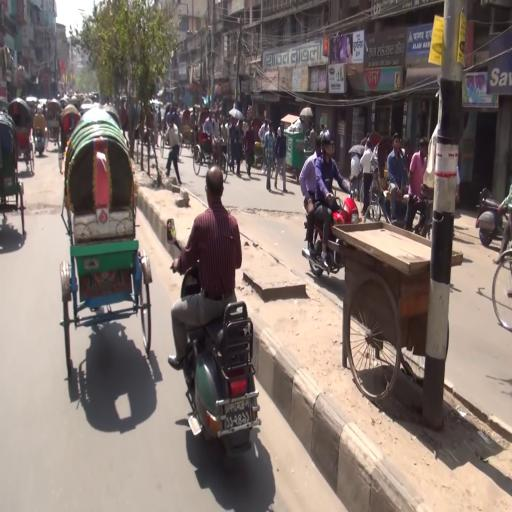motorbike: (300, 133, 362, 294)
rickshaw: (56, 104, 155, 381), (1, 113, 29, 243), (192, 107, 231, 182), (9, 100, 36, 184), (250, 118, 270, 179), (180, 109, 197, 157)
scooter: (166, 277, 263, 479), (33, 102, 49, 161)
wheelbarrow: (326, 216, 461, 406), (284, 122, 315, 185)
